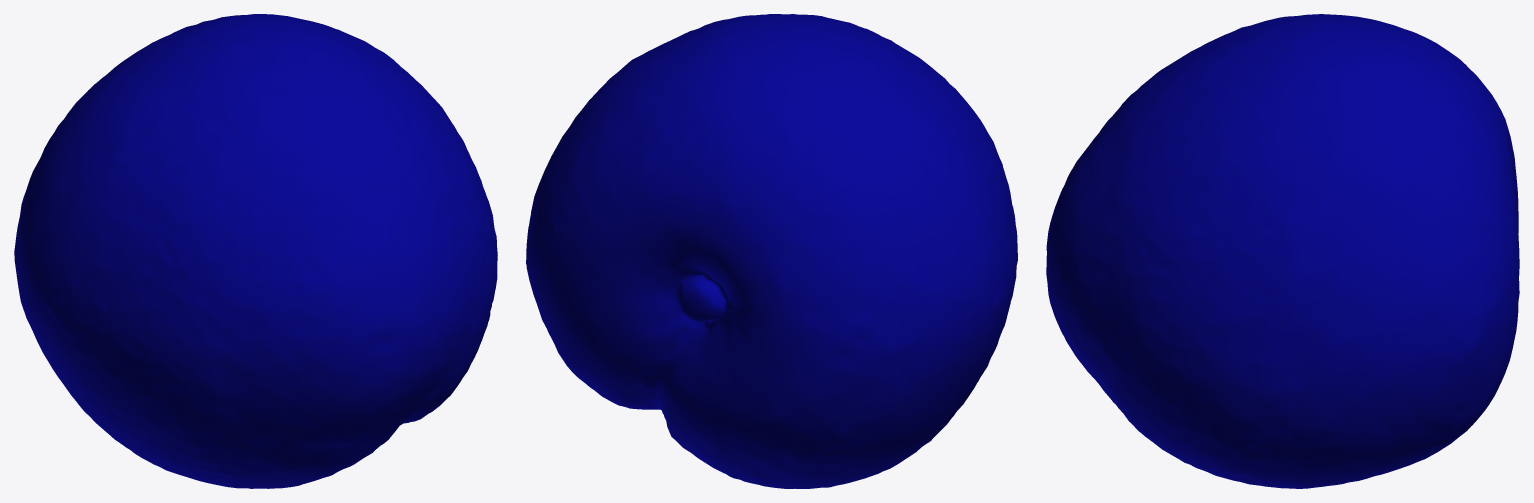
3 renders of one model, left to right at view 1: azimuth 30°, elevation 25°; view 2: azimuth 150°, elevation 25°; view 3: azimuth 270°, elevation 25°, orthographic. The views are drawn at different scales.
Bounding box in the file's own units: 0.0572 × 0.0549 × 0.053.
